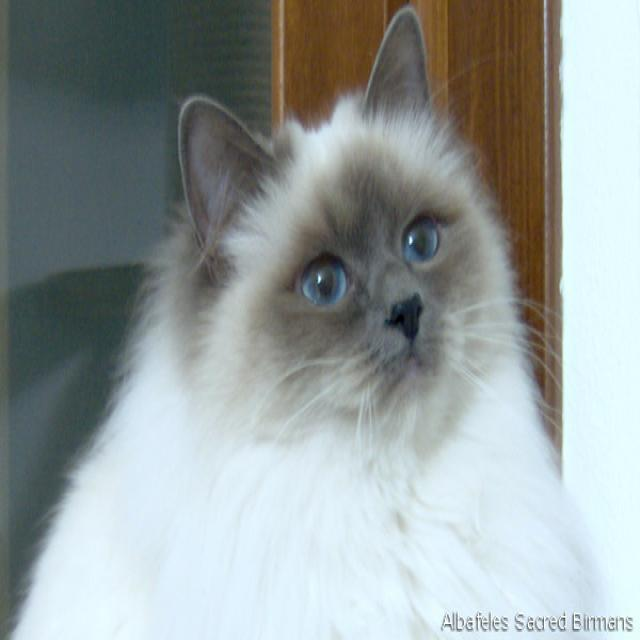Birman: (172, 6, 512, 520)
